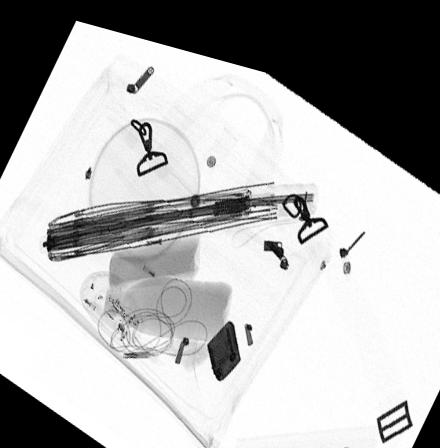Lighter: (207, 308, 241, 370)
